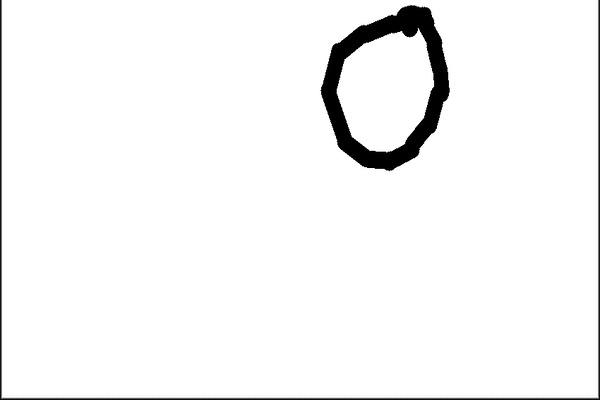O: (307, 0, 462, 176)
